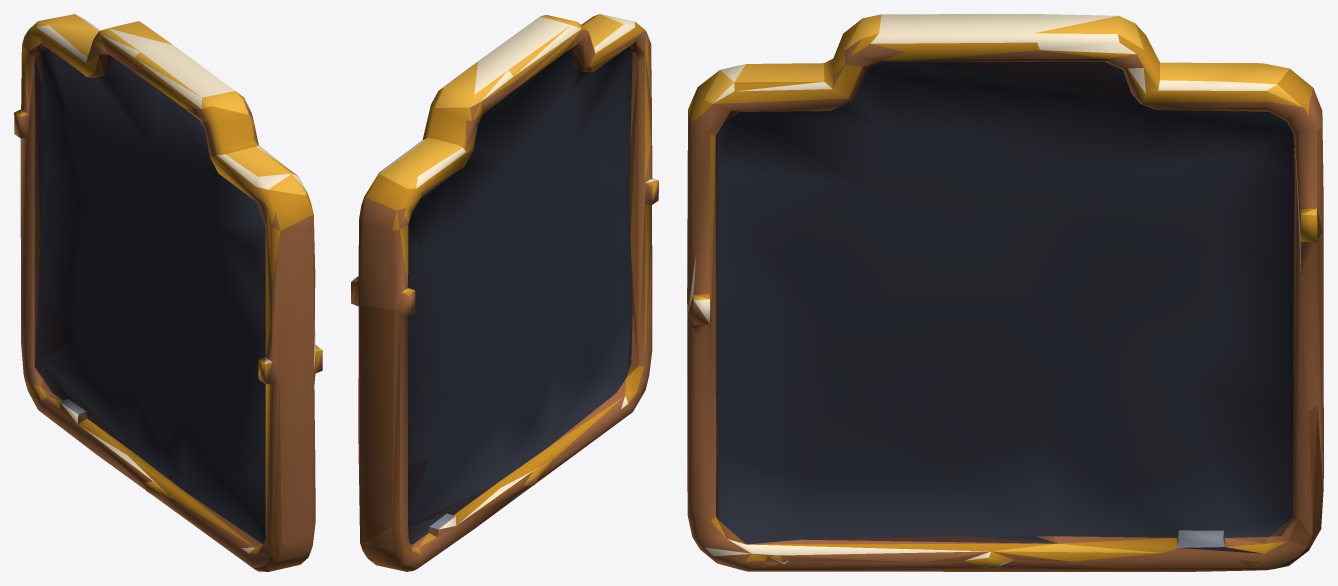
Rendered from SM_board_menu.fbx.
3 views of the same model, side by side, from view 1: azimuth 30°, elevation 25°; view 2: azimuth 150°, elevation 25°; view 3: azimuth 270°, elevation 25° (orthographic). The views are drawn at different scales.
Visible parts, largest first — view 1: SM_board_menu; view 2: SM_board_menu; view 3: SM_board_menu.
Boxes of the visible parts, x1=… form: SM_board_menu: x1=14, y1=14, x2=322, y2=571; SM_board_menu: x1=351, y1=14, x2=658, y2=571; SM_board_menu: x1=687, y1=14, x2=1323, y2=571.
Bounding box in the file's own units: 11.16 × 80 × 85.68.
Materials: 1 (1 with a texture image).
